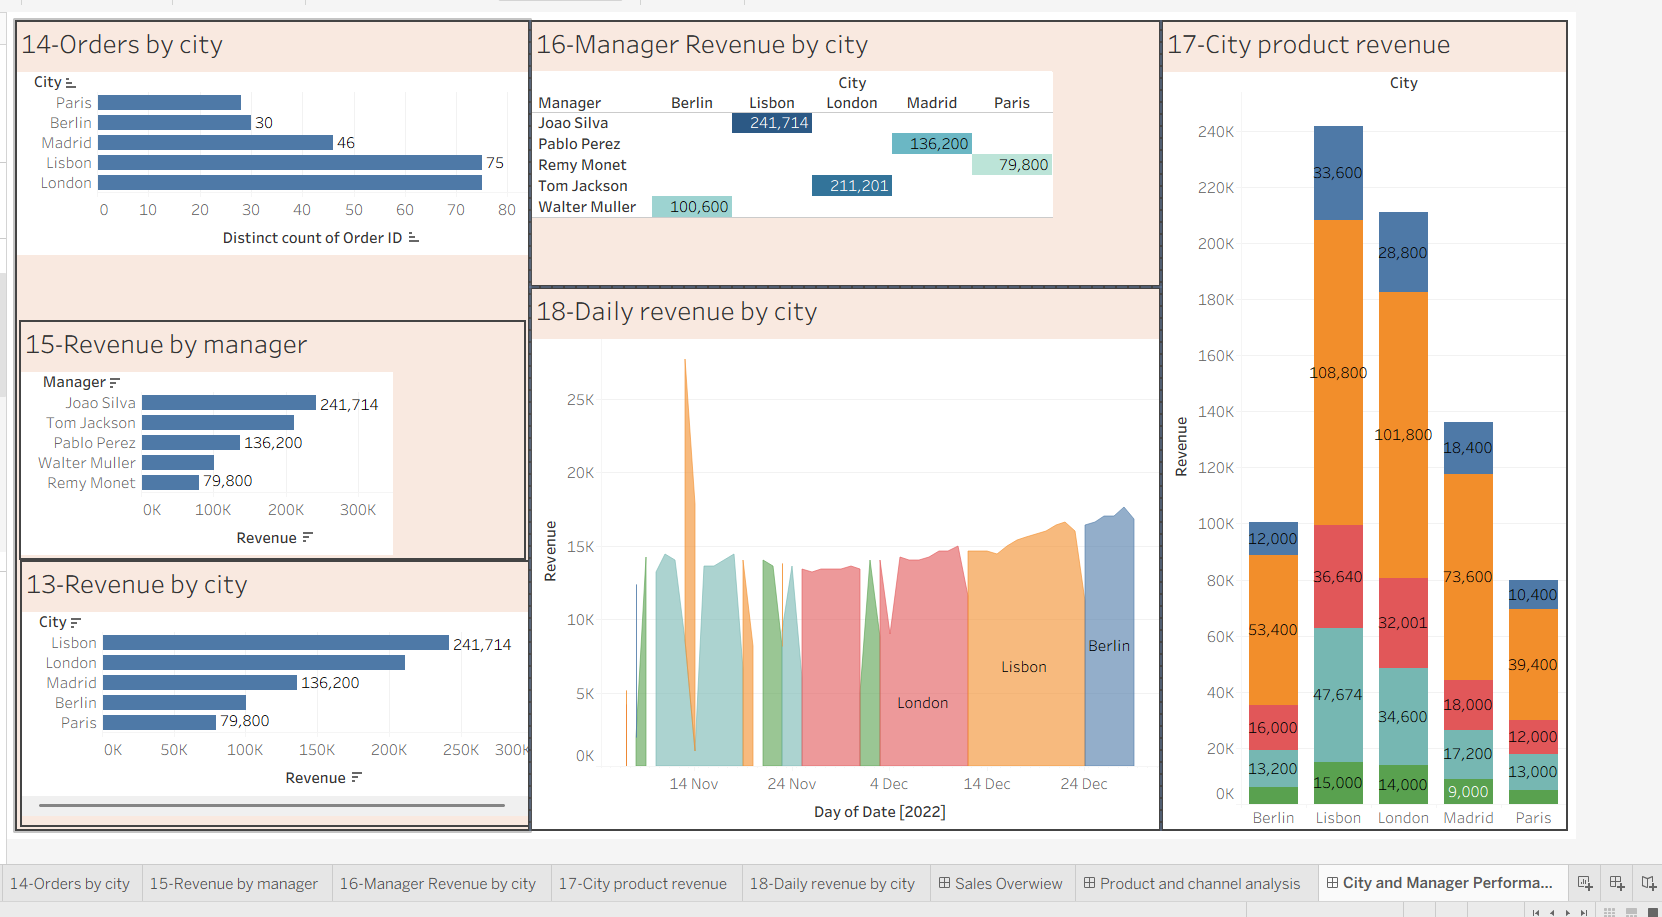

Layout of this report page (visuals, bound fields, positions):
{"tool":"tableau","page":{"name":"City and Manager Performance","canvas":[1569,827],"ordinal":0},"visuals":[{"type":"worksheet","title":"14-Orders by city","mark":"Bar","rows":["City"],"cols":["Order ID"],"box":[8,8,515,811]},{"type":"worksheet","title":"16-Manager Revenue by city","mark":"Square","rows":["Manager"],"cols":["City"],"box":[523,8,631,267]},{"type":"worksheet","title":"17-City product revenue","mark":"Bar","rows":["Revenue"],"cols":["City"],"box":[1154,8,407,811]},{"type":"worksheet","title":"18-Daily revenue by city","mark":"Area","rows":["Revenue"],"cols":["Date"],"box":[523,275,631,544]},{"type":"worksheet","title":"15-Revenue by manager","mark":"Bar","rows":["Manager"],"cols":["Revenue"],"box":[12,308,507,240]},{"type":"worksheet","title":"13-Revenue by city","mark":"Bar","rows":["City"],"cols":["Revenue"],"box":[13,548,510,267]}]}

Visuals, with their boxes in screenshot pixels (x1, y1, x2, y2):
"14-Orders by city" worksheet (Bar marks): crop(4, 12, 523, 830)
"16-Manager Revenue by city" worksheet (Square marks): crop(523, 12, 1158, 281)
"17-City product revenue" worksheet (Bar marks): crop(1158, 12, 1569, 830)
"18-Daily revenue by city" worksheet (Area marks): crop(523, 281, 1158, 830)
"15-Revenue by manager" worksheet (Bar marks): crop(8, 315, 519, 556)
"13-Revenue by city" worksheet (Bar marks): crop(9, 556, 523, 826)
